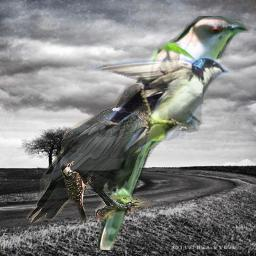Crow: (26, 83, 164, 224)
Cuckoo: (98, 16, 251, 250)
Swallow: (88, 55, 229, 163)
Woodpecker: (61, 161, 93, 223)
